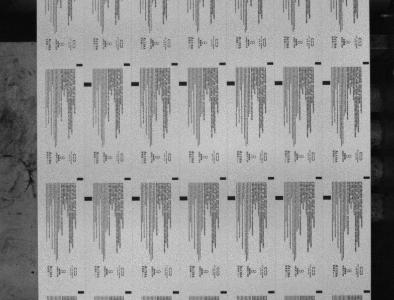backgroundclutter: (31, 271, 35, 274)
qblock: (84, 196, 93, 201), (131, 81, 139, 86), (179, 81, 187, 86), (323, 80, 331, 85), (132, 196, 140, 201), (179, 196, 188, 200), (275, 196, 284, 200), (323, 195, 332, 199), (84, 82, 92, 86), (275, 81, 283, 85), (227, 81, 235, 85), (227, 196, 235, 200)
smallqblock: (76, 63, 83, 67), (268, 176, 275, 180), (77, 177, 84, 181), (363, 61, 370, 65), (219, 62, 226, 65), (267, 62, 274, 65), (315, 62, 322, 65), (220, 177, 227, 180), (172, 177, 179, 180), (124, 177, 131, 180), (316, 176, 323, 179), (364, 176, 371, 179), (221, 290, 228, 293), (268, 290, 275, 293), (125, 291, 132, 294), (316, 290, 323, 293), (78, 291, 85, 294), (364, 290, 371, 293), (124, 63, 130, 66), (173, 291, 179, 294), (172, 63, 178, 65)
